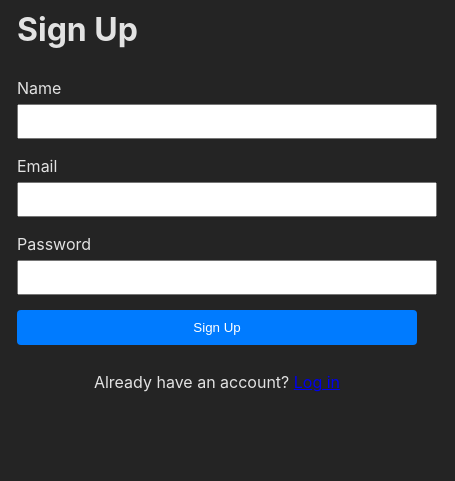
it: SignupPage › should display validation errors for empty fields
The image size is (455, 481).
Click the button "Sign Up" at (217, 327), box [17,310,417,345]
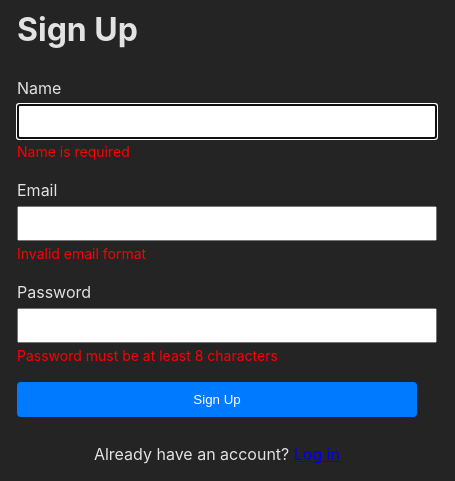
Result: the text "Name is required" is shown at [17,143,130,160]
Result: the text "Invalid email format" is shown at [17,245,146,262]
Result: the text "Password must be at least 8 characters" is shown at [17,347,278,364]
